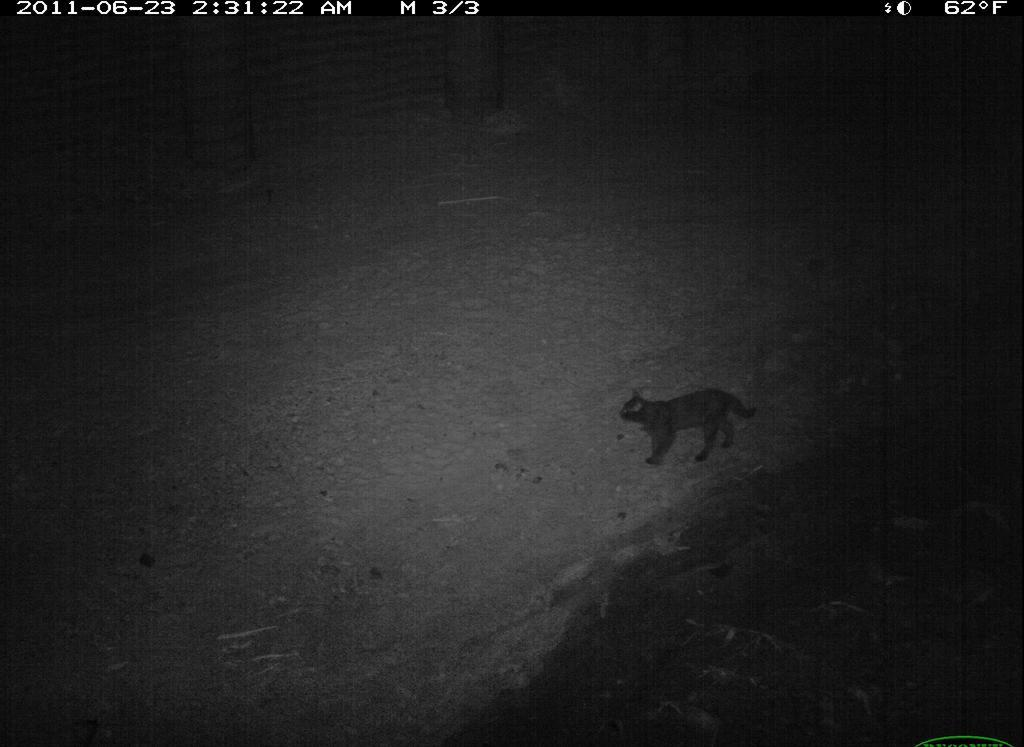cat: (614, 380, 772, 476)
